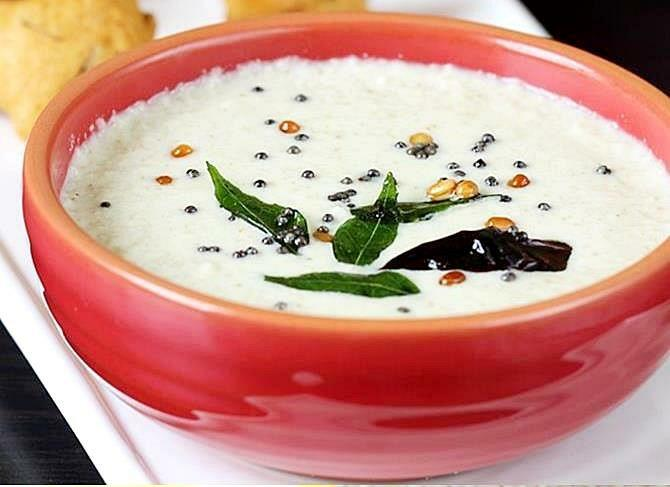CoconutChutney: (62, 57, 670, 319)
